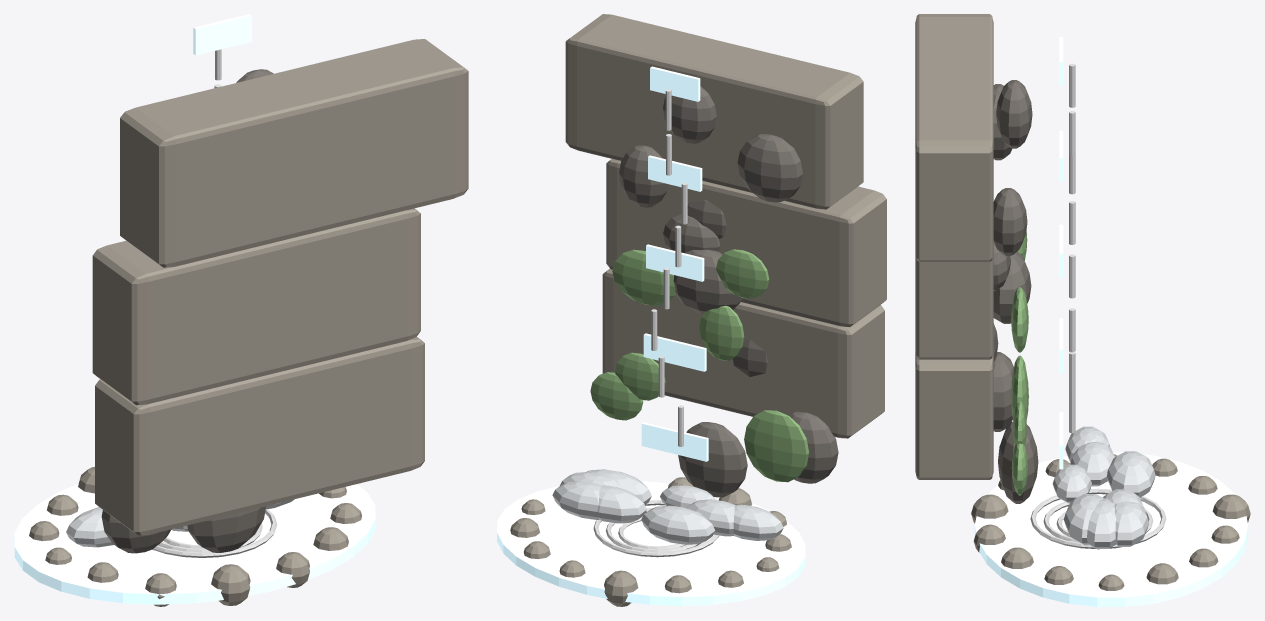
The model's file is waterfall.glb.
3 views of the same model, side by side, from view 1: azimuth 30°, elevation 25°; view 2: azimuth 150°, elevation 25°; view 3: azimuth 270°, elevation 25° (orthographic). The views are drawn at different scales.
Parts seen in each view (by area): view 1: waterfall; view 2: waterfall; view 3: waterfall.
Boxes of the visible parts, left/top/right/bottom form: waterfall: left=14, top=14, right=468, bottom=606; waterfall: left=497, top=14, right=886, bottom=606; waterfall: left=915, top=14, right=1250, bottom=606.
Size of the model in its own units: 2.69 by 4.18 by 2.56.
